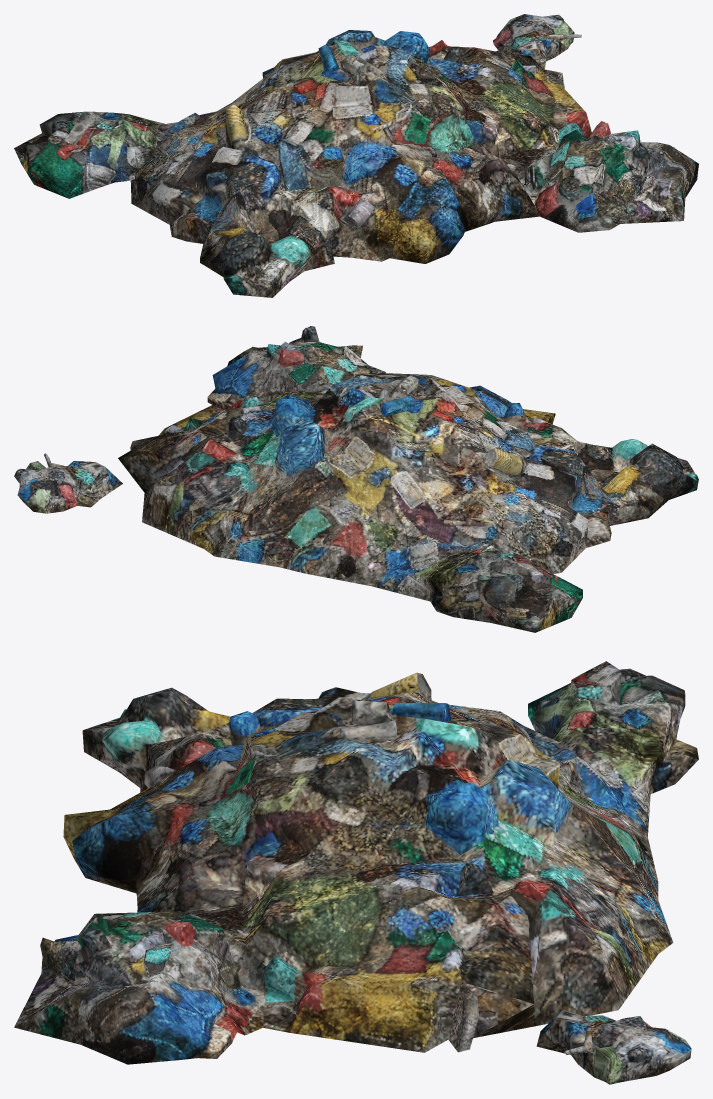
Rendered from sm20_004_garbage01a.fbx.
The picture shows the model from 3 angles, top to bottom: view 1: azimuth 30°, elevation 25°; view 2: azimuth 150°, elevation 25°; view 3: azimuth 270°, elevation 25°; orthographic projection. The views are drawn at different scales.
Visible parts, largest first — view 1: LOD_1_Group_0_Sub_1__sm20_004_Garbage01A_A_Mat; view 2: LOD_1_Group_0_Sub_1__sm20_004_Garbage01A_A_Mat; view 3: LOD_1_Group_0_Sub_1__sm20_004_Garbage01A_A_Mat.
Part boxes in pixels (left/top/right/bottom): LOD_1_Group_0_Sub_1__sm20_004_Garbage01A_A_Mat: left=14, top=14, right=698, bottom=297; LOD_1_Group_0_Sub_1__sm20_004_Garbage01A_A_Mat: left=14, top=326, right=698, bottom=632; LOD_1_Group_0_Sub_1__sm20_004_Garbage01A_A_Mat: left=14, top=661, right=698, bottom=1084.
Bounding box in the file's own units: 5.89 × 1.27 × 4.33.
